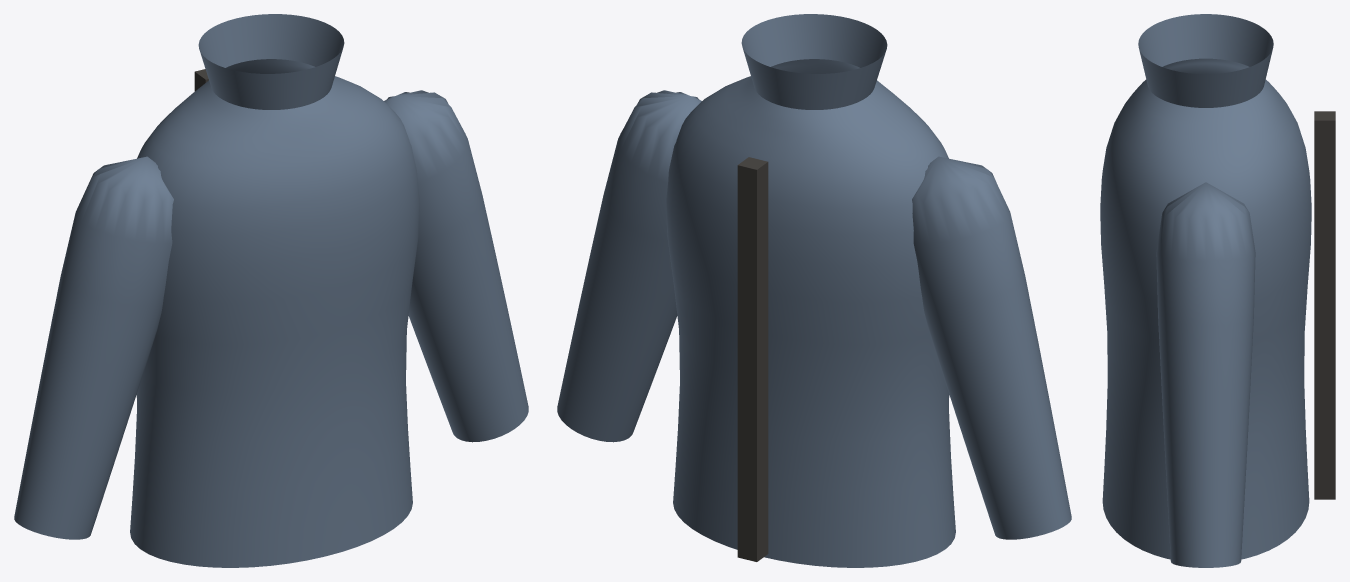
The model's file is denim-jacket.glb.
The picture shows the model from 3 angles, left to right: view 1: azimuth 30°, elevation 25°; view 2: azimuth 150°, elevation 25°; view 3: azimuth 270°, elevation 25°; orthographic projection. The views are drawn at different scales.
Visible parts, largest first — view 1: JacketTorso, JacketSleeveL, JacketSleeveR, JacketCollar; view 2: JacketTorso, JacketSleeveL, JacketSleeveR, JacketPlacket, JacketCollar; view 3: JacketTorso, JacketSleeveR, JacketCollar, JacketPlacket.
Part boxes in pixels (<box>): JacketTorso: <box>130,59,419,567</box>; JacketSleeveL: <box>14,156,173,539</box>; JacketSleeveR: <box>384,90,528,442</box>; JacketCollar: <box>198,14,344,109</box>; JacketTorso: <box>666,59,955,567</box>; JacketSleeveL: <box>912,156,1071,539</box>; JacketSleeveR: <box>557,90,701,442</box>; JacketPlacket: <box>737,157,768,561</box>; JacketCollar: <box>741,14,887,109</box>; JacketTorso: <box>1100,58,1311,559</box>; JacketSleeveR: <box>1156,182,1255,567</box>; JacketCollar: <box>1138,14,1273,107</box>; JacketPlacket: <box>1314,111,1335,499</box>.
Size of the model in its own units: 0.7826 by 0.7 by 0.3267.
